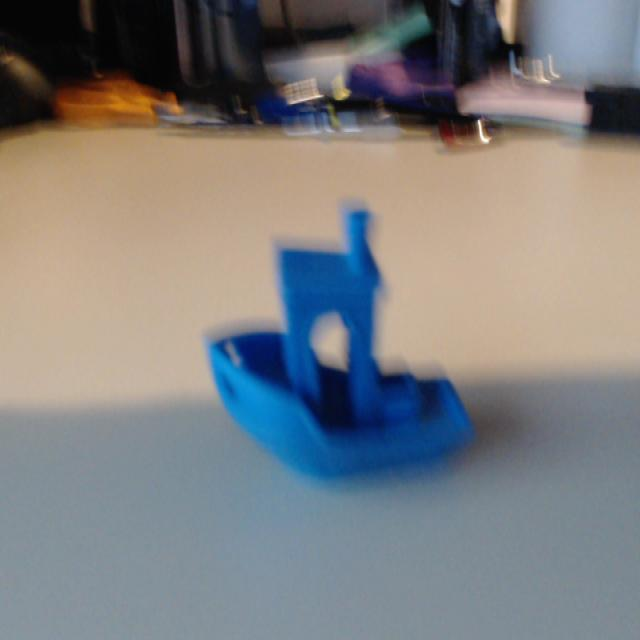benchy: (200, 199, 479, 484)
